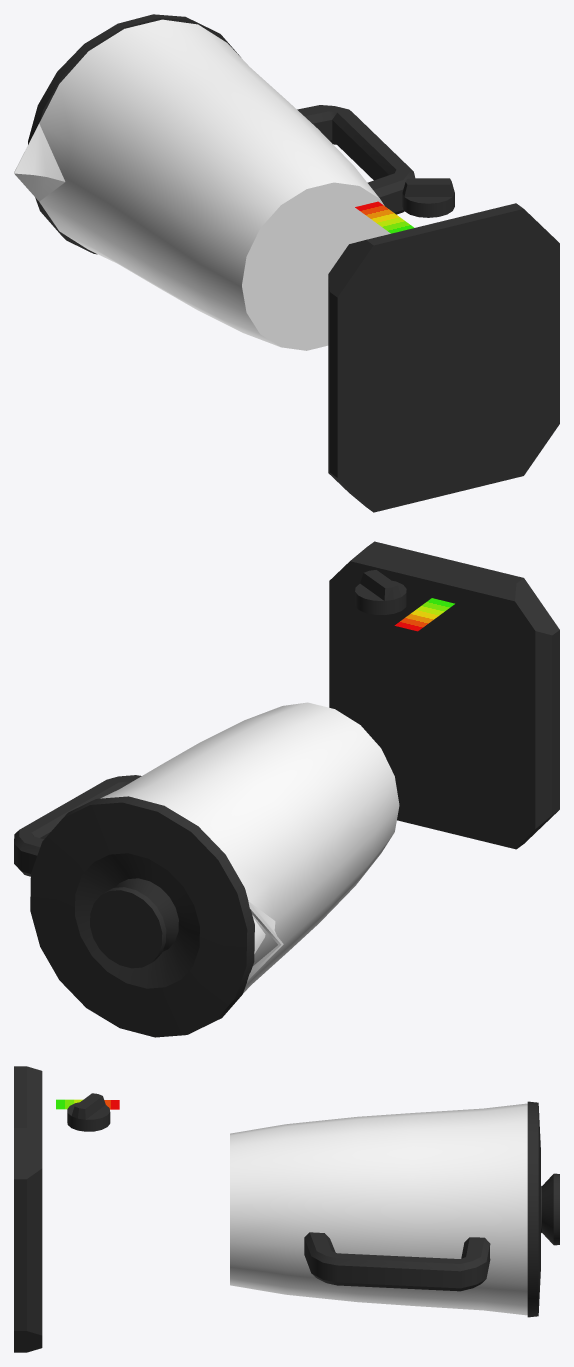
Rendered from Fit_ZhaZhiJi_1X3X1.FBX.
3 renders of one model, top to bottom at view 1: azimuth 30°, elevation 25°; view 2: azimuth 150°, elevation 25°; view 3: azimuth 270°, elevation 25°, orthographic. The views are drawn at different scales.
Parts seen in each view (by area): view 1: Box006; view 2: Box006; view 3: Box006.
Part boxes in pixels (x1,y1,x2,y2): Box006: (14, 14, 559, 512); Box006: (14, 541, 559, 1037); Box006: (14, 1066, 559, 1352).
Bounding box in the file's own units: 1.36 × 1.17 × 2.51.
